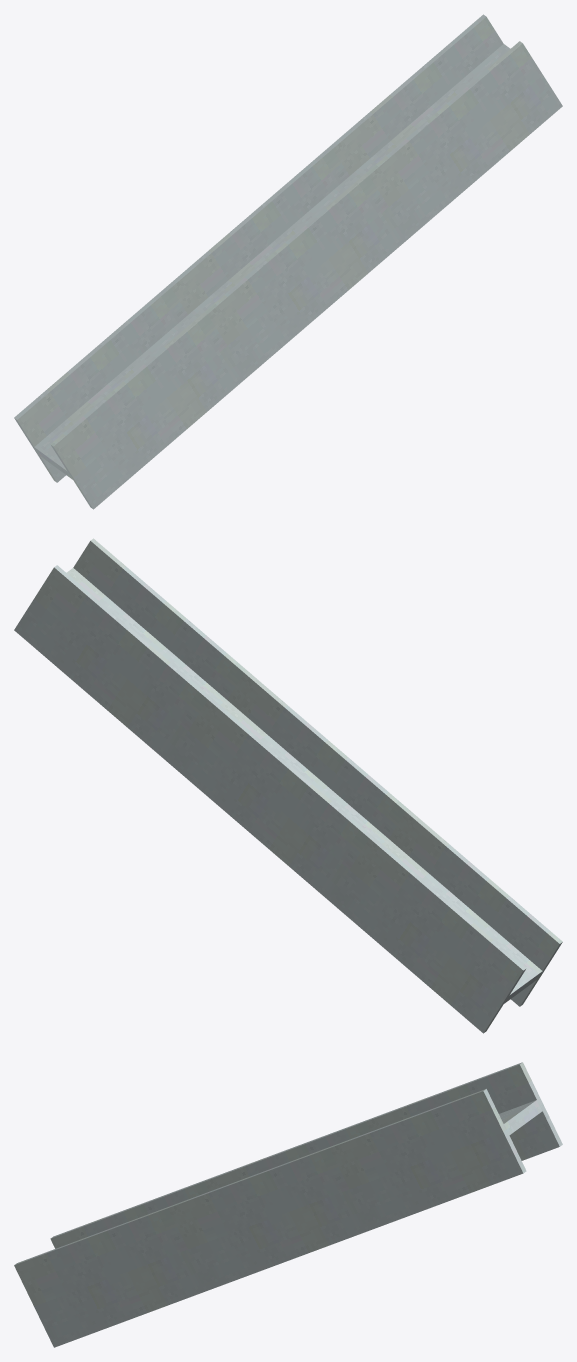
The model's file is azdb003-geode.glb.
The picture shows the model from 3 angles, top to bottom: view 1: azimuth 30°, elevation 25°; view 2: azimuth 150°, elevation 25°; view 3: azimuth 330°, elevation 25°; orthographic projection.
Parts seen in each view (by area): view 1: Node; view 2: Node; view 3: Node.
Part boxes in pixels (<box>): Node: <box>14,14,562,509</box>; Node: <box>14,538,562,1033</box>; Node: <box>14,1062,562,1347</box>.
Bounding box in the file's own units: 0.8659 × 0.5871 × 0.1163.
Materials: 1 (1 with a texture image).
